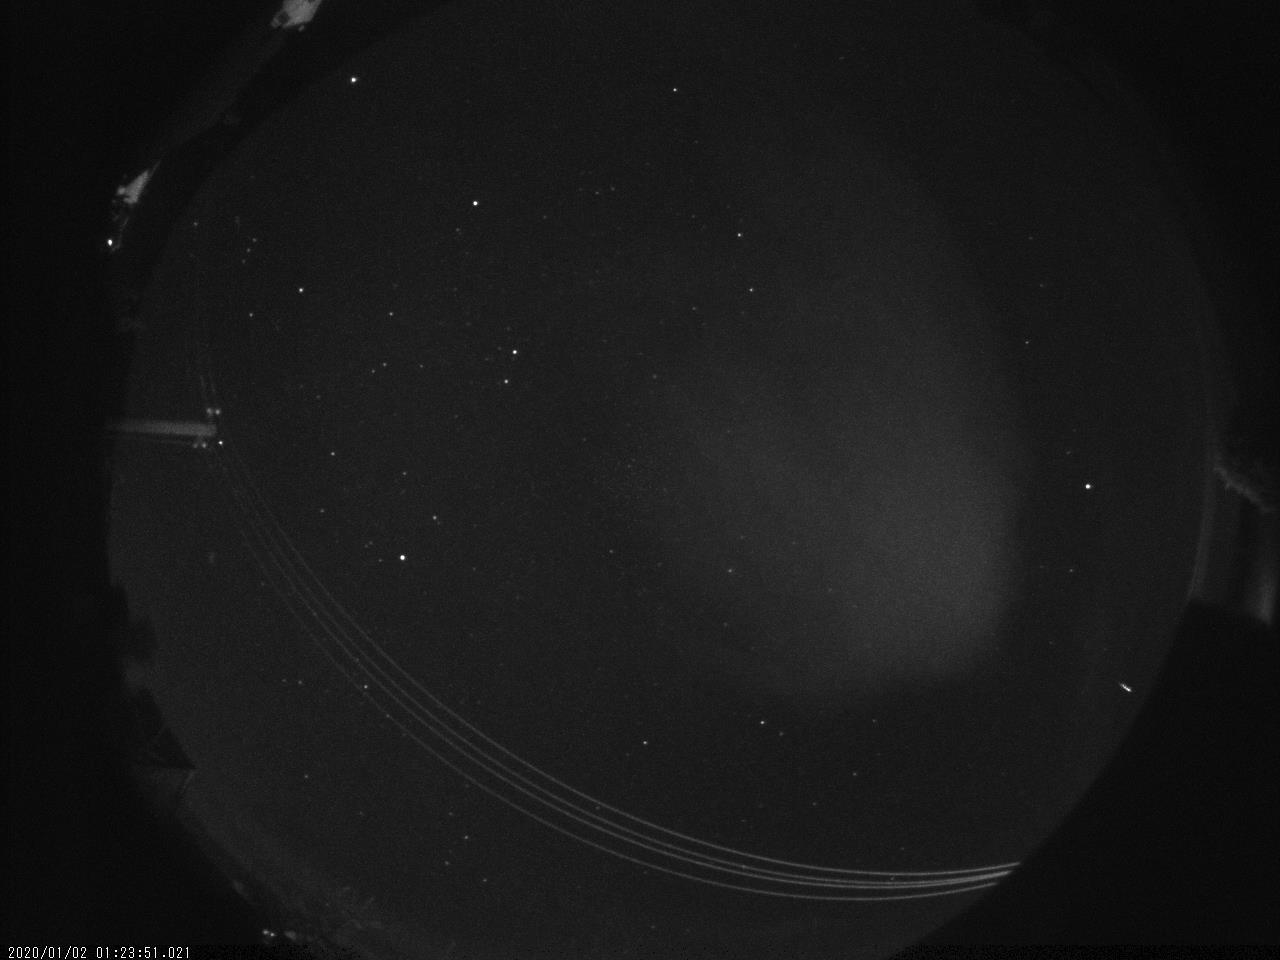Meteor: (1108, 668, 1144, 705)
